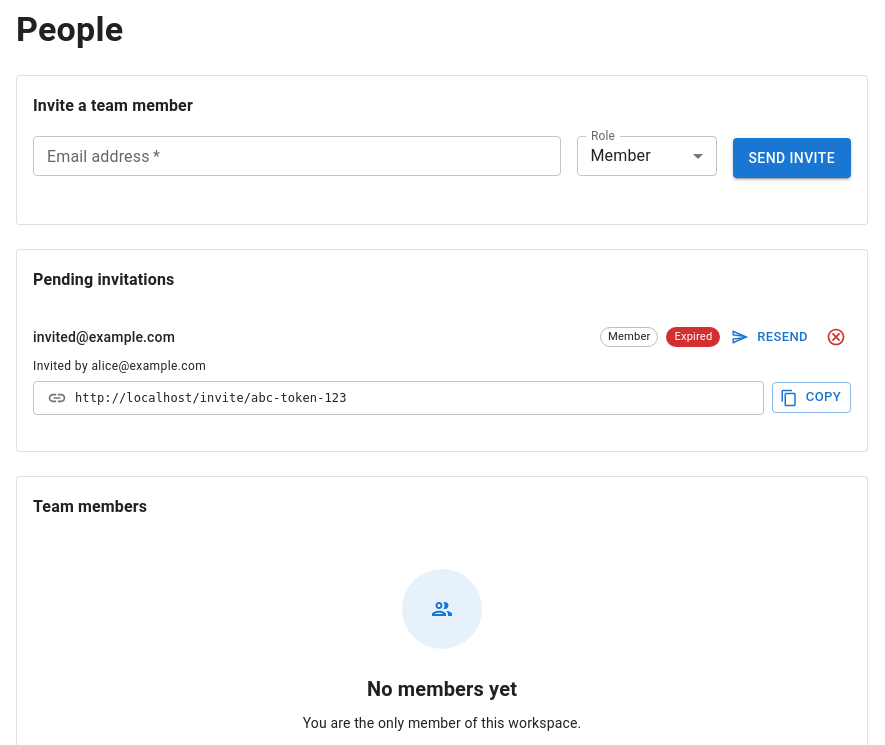
PeoplePage — resend invitation › shows an error alert when resend fails
Click the button with aria-label "resend invitation to invited@example.com" at (771, 337), box [728,322,813,353]
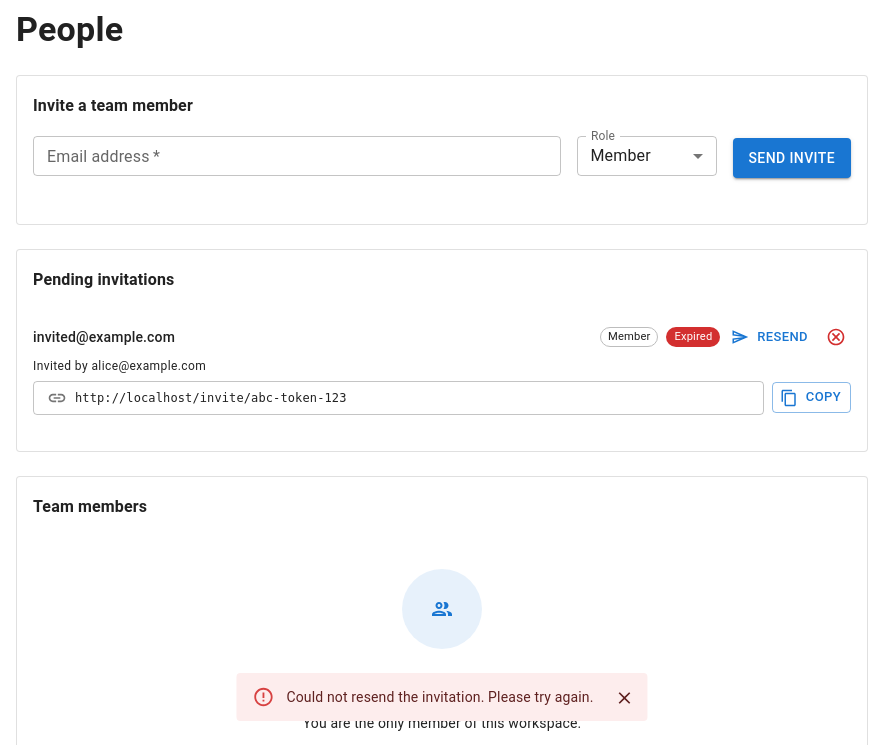
Check: the text "Could not resend the invitation. Please try again." is shown, box [286,689,594,705]
